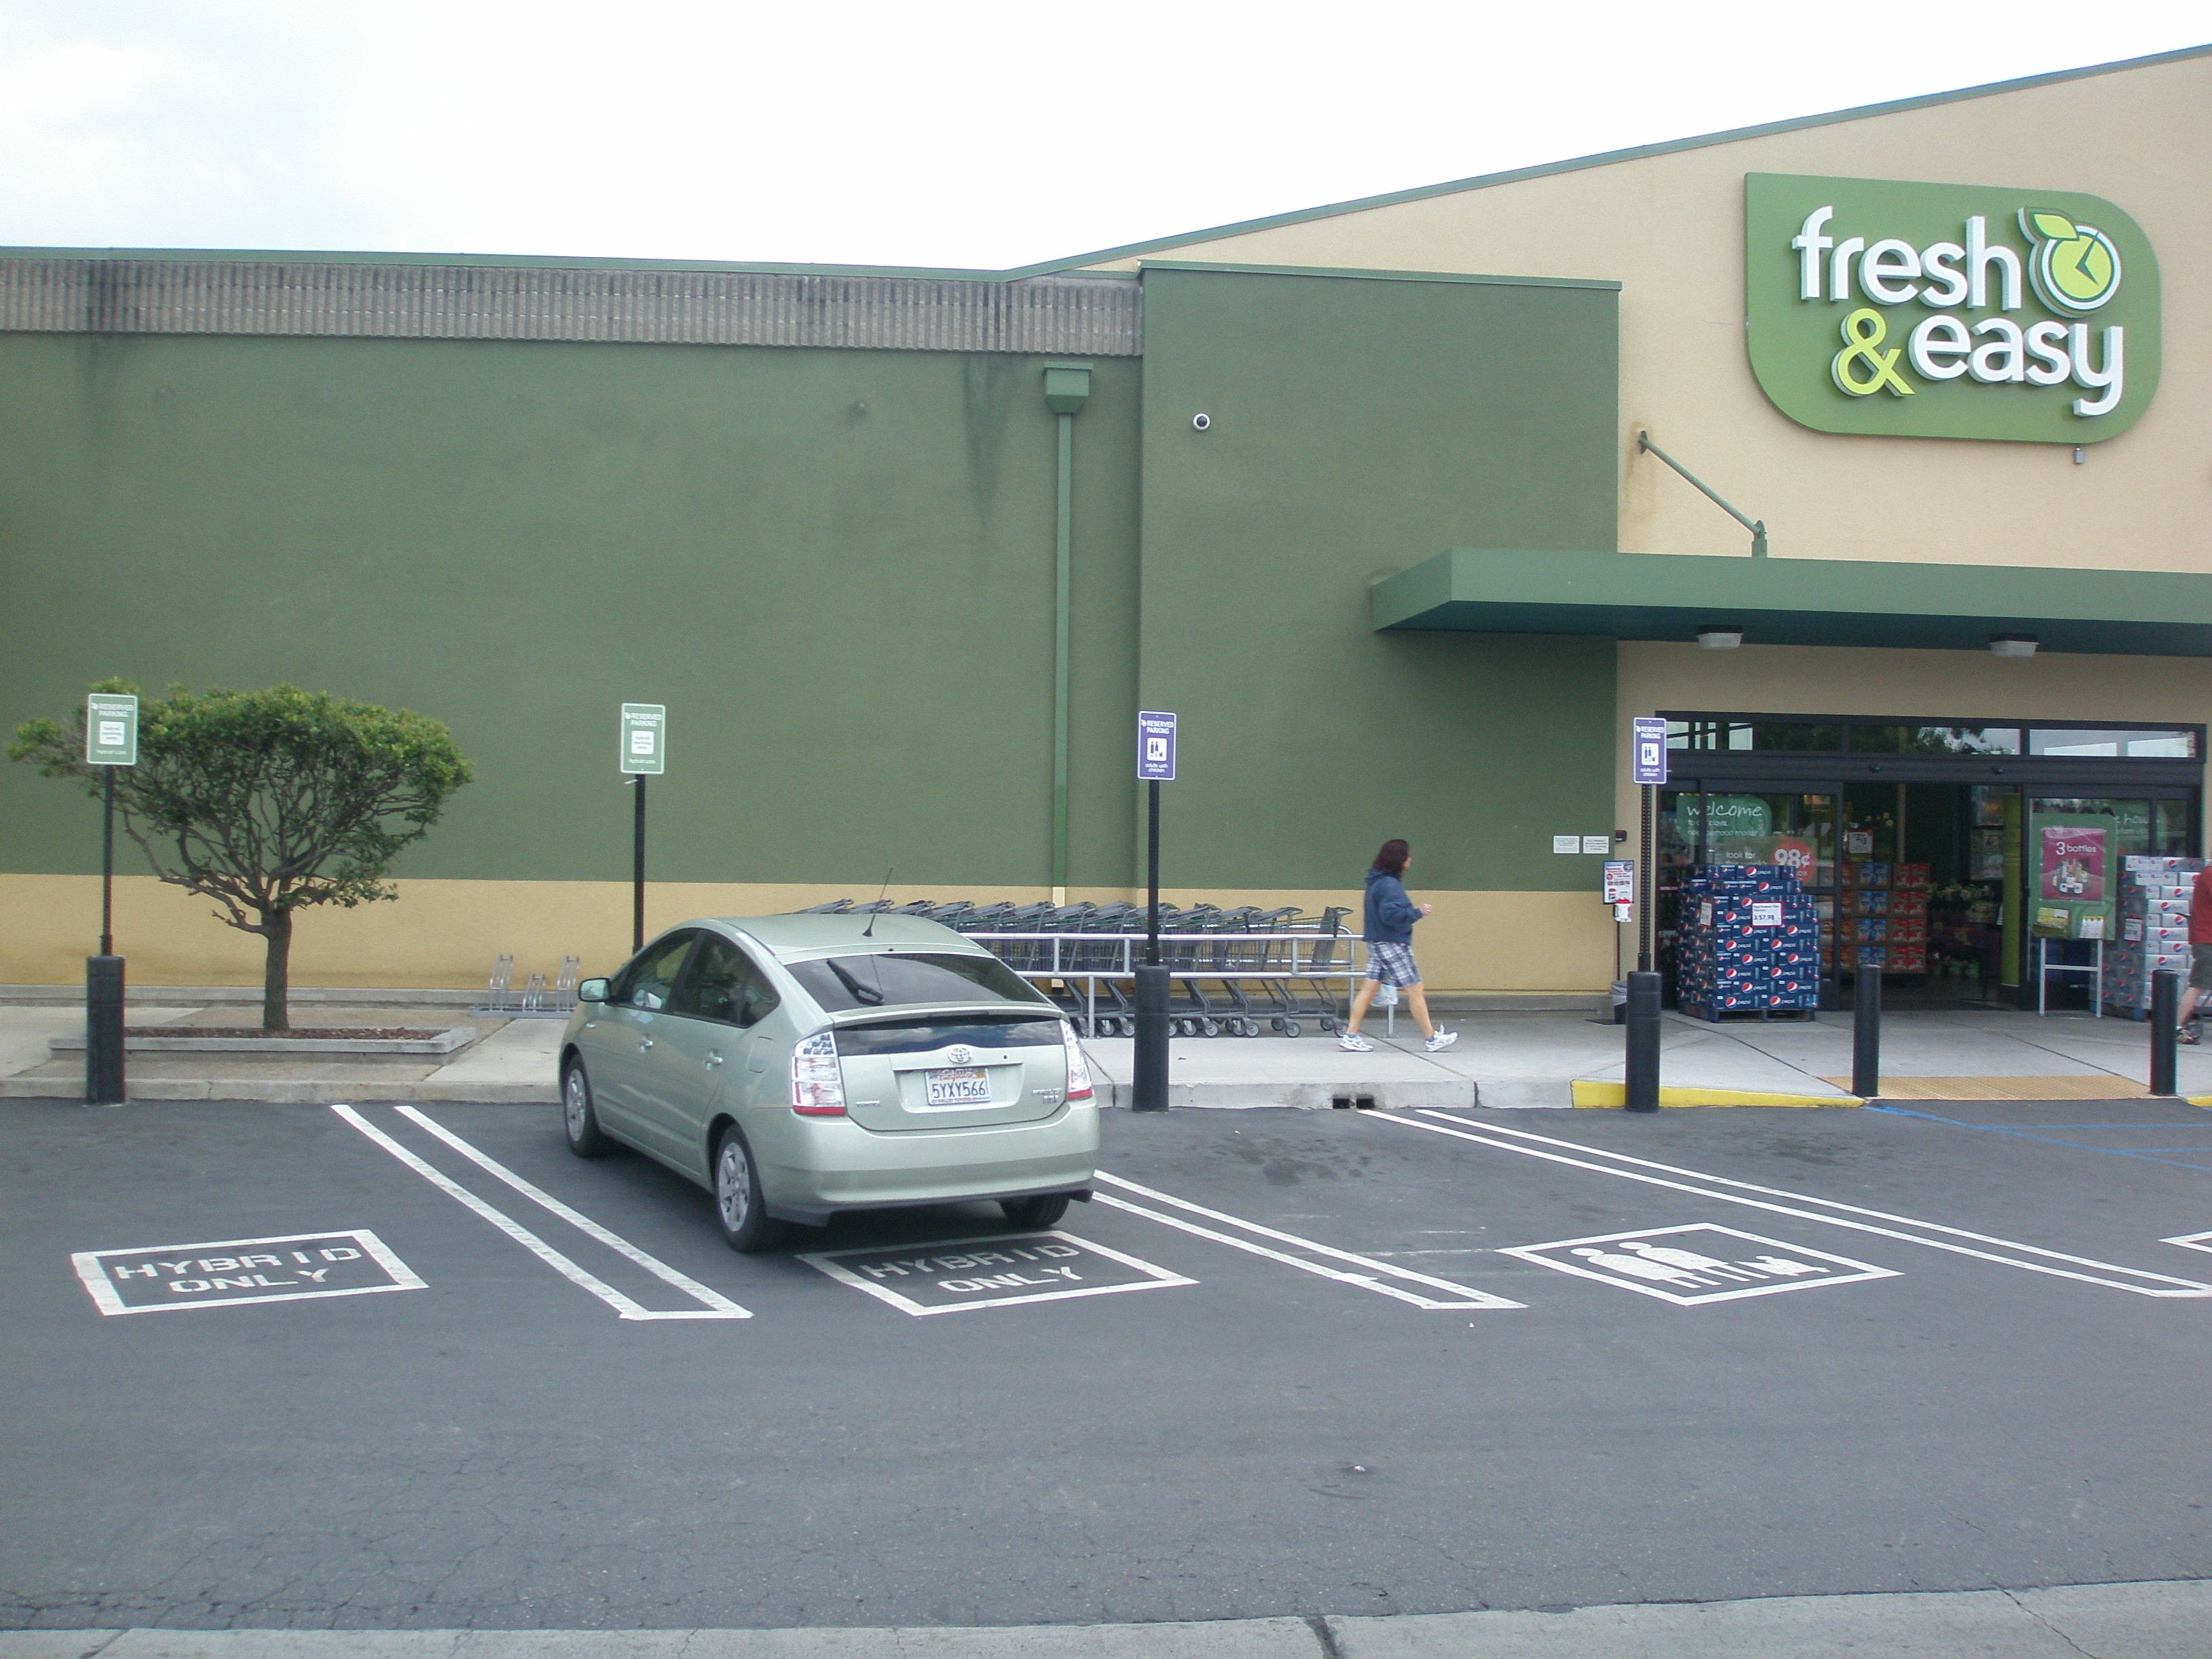empyt_space: (1089, 1068, 2200, 1342), (2, 1068, 761, 1356), (1372, 1056, 2212, 1307)
